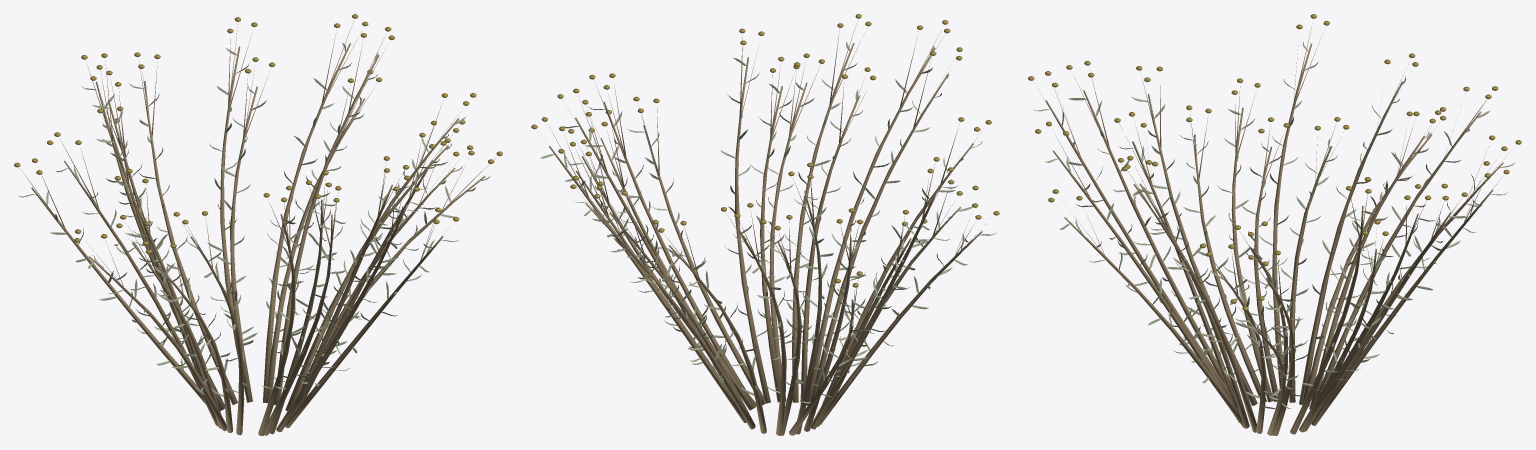
The model's file is Immortelle_1_Niveau0.fbx.
3 renders of one model, left to right at view 1: azimuth 30°, elevation 25°; view 2: azimuth 150°, elevation 25°; view 3: azimuth 270°, elevation 25°, orthographic.
Parts seen in each view (by area): view 1: Immortelle_1_Niveau0_Jeu; view 2: Immortelle_1_Niveau0_Jeu; view 3: Immortelle_1_Niveau0_Jeu.
Part boxes in pixels (x1,y1,x2,y2): Immortelle_1_Niveau0_Jeu: (14,14,502,435); Immortelle_1_Niveau0_Jeu: (531,14,999,435); Immortelle_1_Niveau0_Jeu: (1028,14,1521,435).
Bounding box in the file's own units: 58.97 × 41.98 × 58.14.
